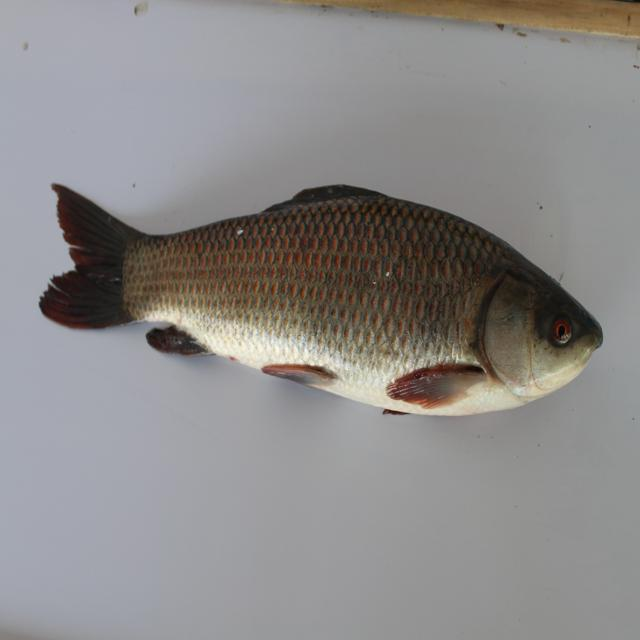Rohu: (43, 166, 616, 430)
